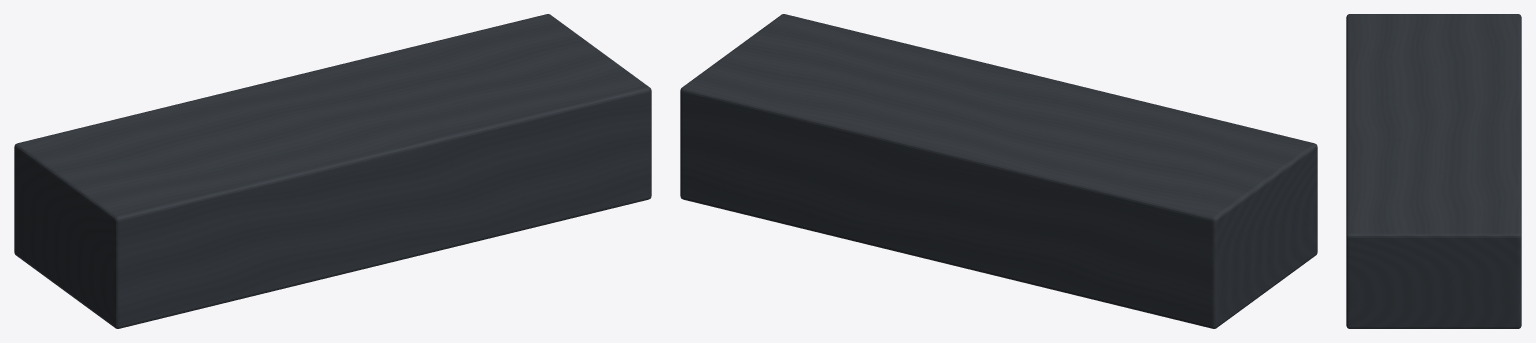
The model's file is charcoal.glb.
The picture shows the model from 3 angles, left to right: view 1: azimuth 30°, elevation 25°; view 2: azimuth 150°, elevation 25°; view 3: azimuth 270°, elevation 25°; orthographic projection. The views are drawn at different scales.
Visible parts, largest first — view 1: Block_L01_S1; view 2: Block_L01_S1; view 3: Block_L01_S1.
Part boxes in pixels (x1=…): Block_L01_S1: x1=14, y1=14, x2=651, y2=328; Block_L01_S1: x1=680, y1=14, x2=1317, y2=328; Block_L01_S1: x1=1346, y1=14, x2=1521, y2=328.
Bounding box in the file's own units: 0.075 × 0.015 × 0.025.
1 material, 1 textured.
